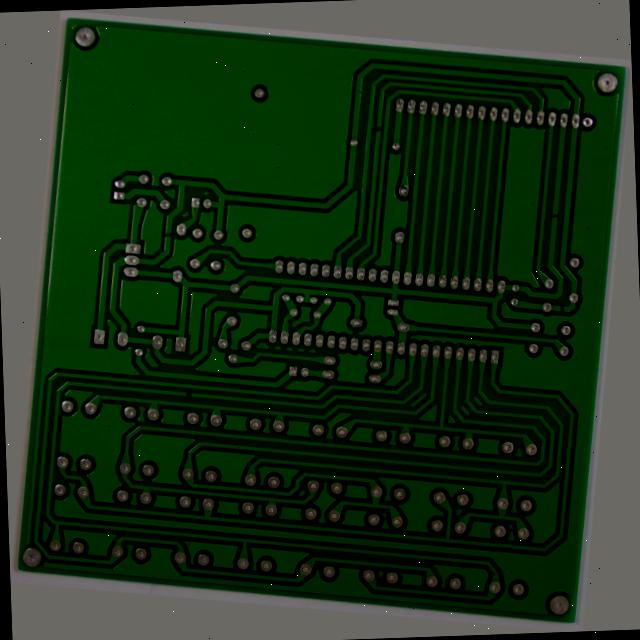open_circuit: (175, 413, 190, 426), (577, 266, 590, 281), (351, 92, 362, 109), (131, 238, 145, 251), (557, 164, 569, 178)
